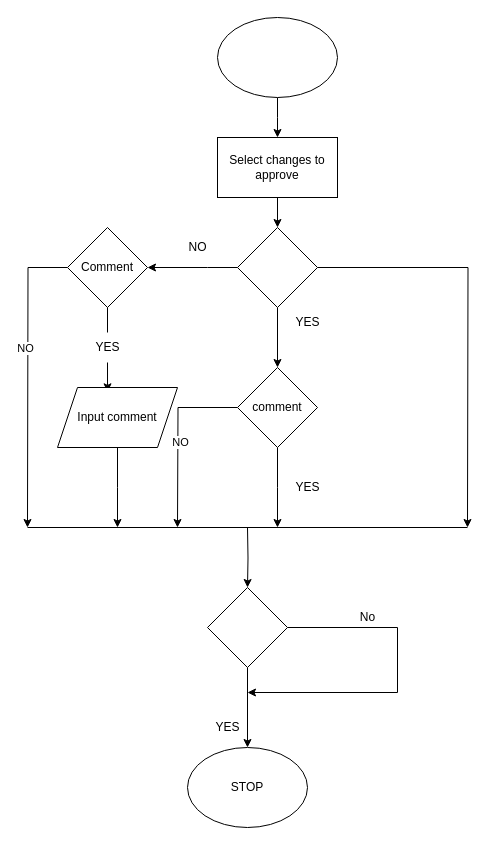
Image size: 494x845. Some labels were removed from this diagram. Each missing label, with the box of its shape:
Approve: (206, 586, 288, 668)
Open record: (236, 226, 318, 308)
START: (216, 16, 338, 98)
